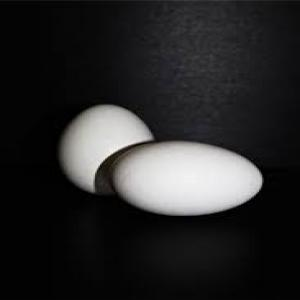Egg: (113, 140, 265, 218), (60, 103, 158, 196)
